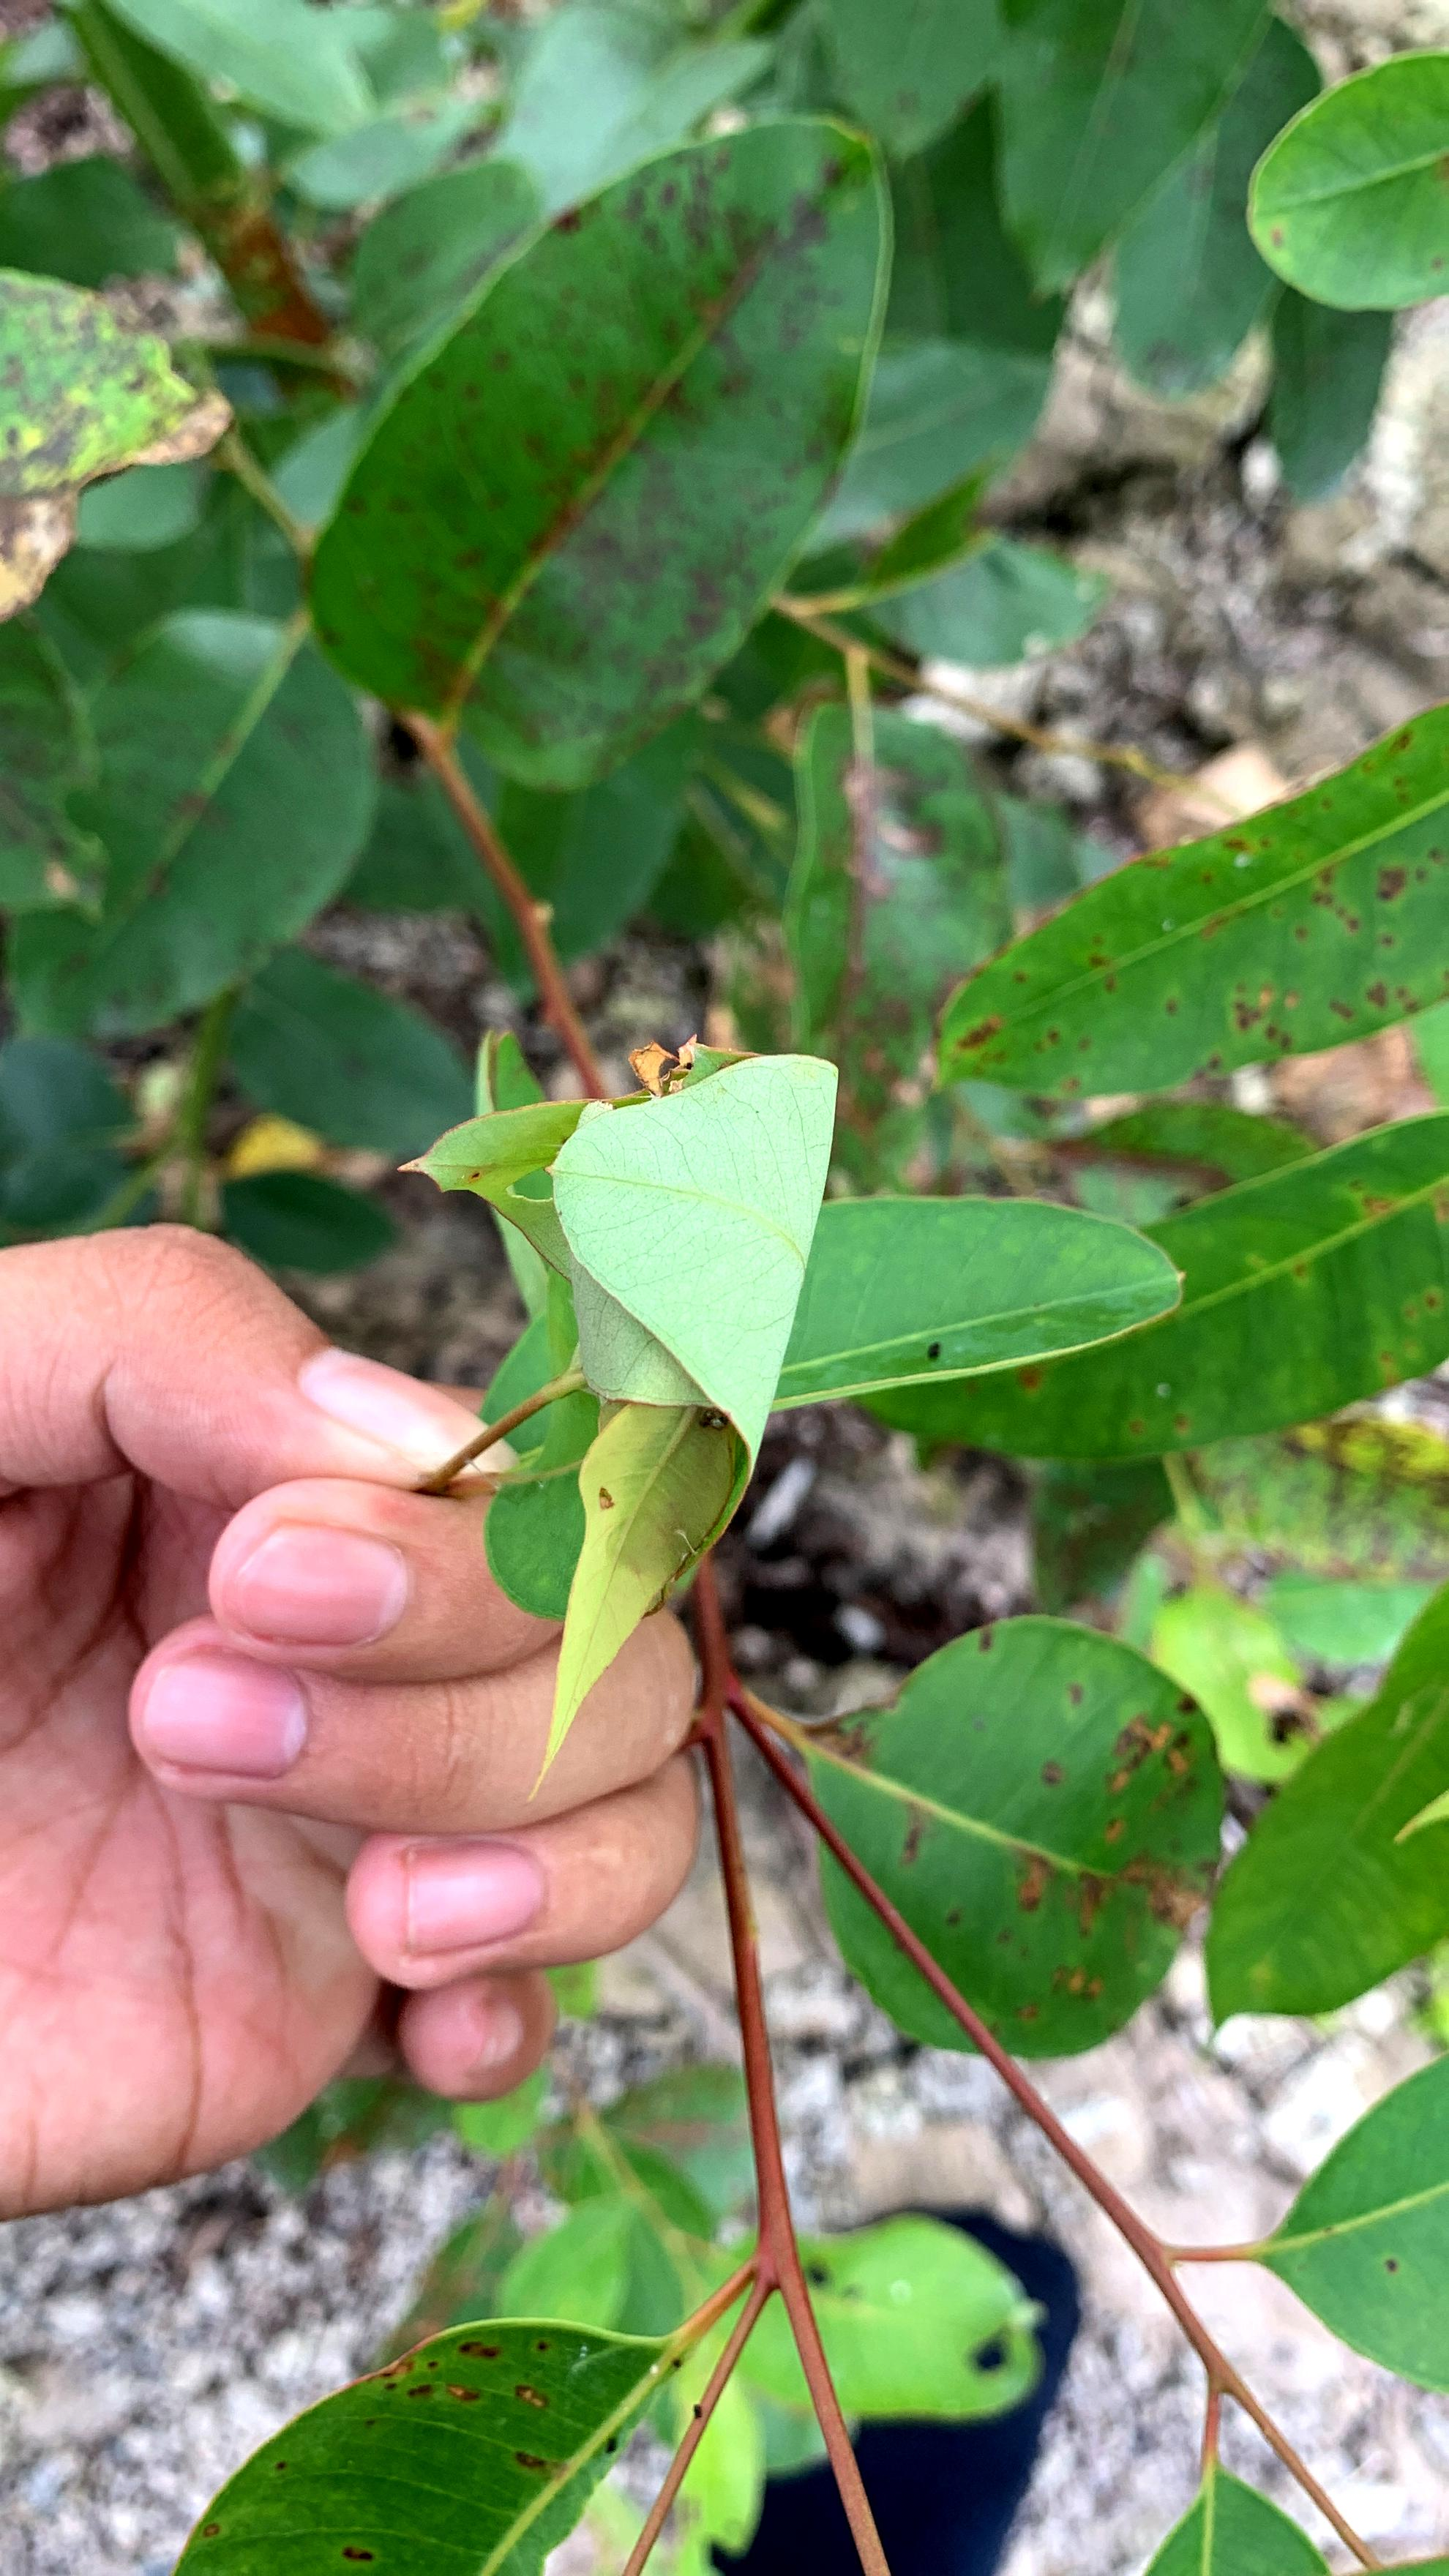Leaf Roller - Leaf: (419, 1019, 933, 1588)
